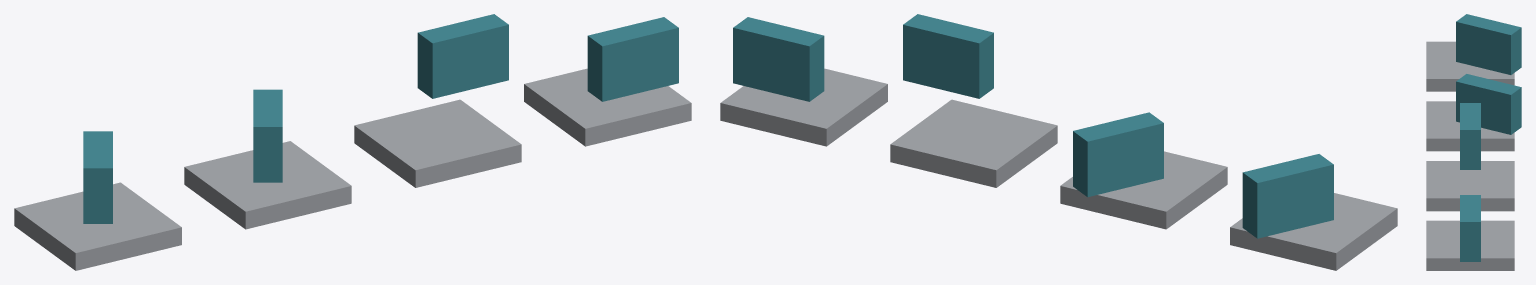
File: asm_kinds.glb
3 views of the same model, side by side, from view 1: azimuth 30°, elevation 25°; view 2: azimuth 150°, elevation 25°; view 3: azimuth 270°, elevation 25° (orthographic). The views are drawn at different scales.
Visible parts, largest first — view 1: base, revolute; view 2: base, revolute; view 3: base, revolute.
Boxes of the visible parts, x1,y1,x2,y2 form: base: (14,68,691,270); revolute: (83,14,678,223); base: (720,68,1397,270); revolute: (733,14,1333,238); base: (1426,41,1514,270); revolute: (1456,14,1521,261).
Bounding box in the file's own units: 0.295 × 0.053 × 0.054.
